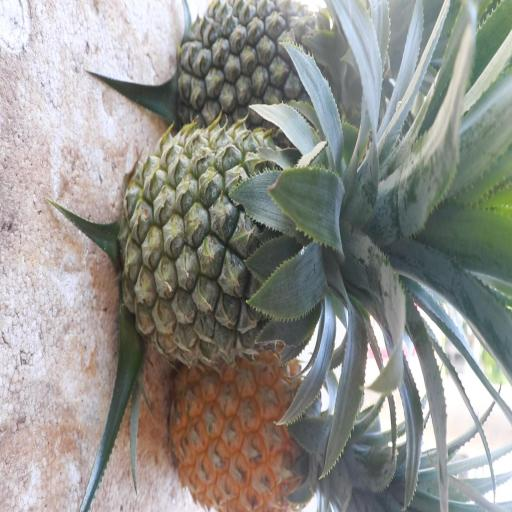------------------------------: (123, 126, 332, 349)
Pineapple - v8 v1: (171, 343, 336, 512)
